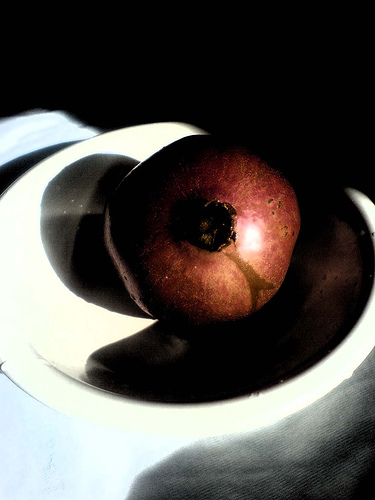pomogranate: (100, 135, 302, 328)
